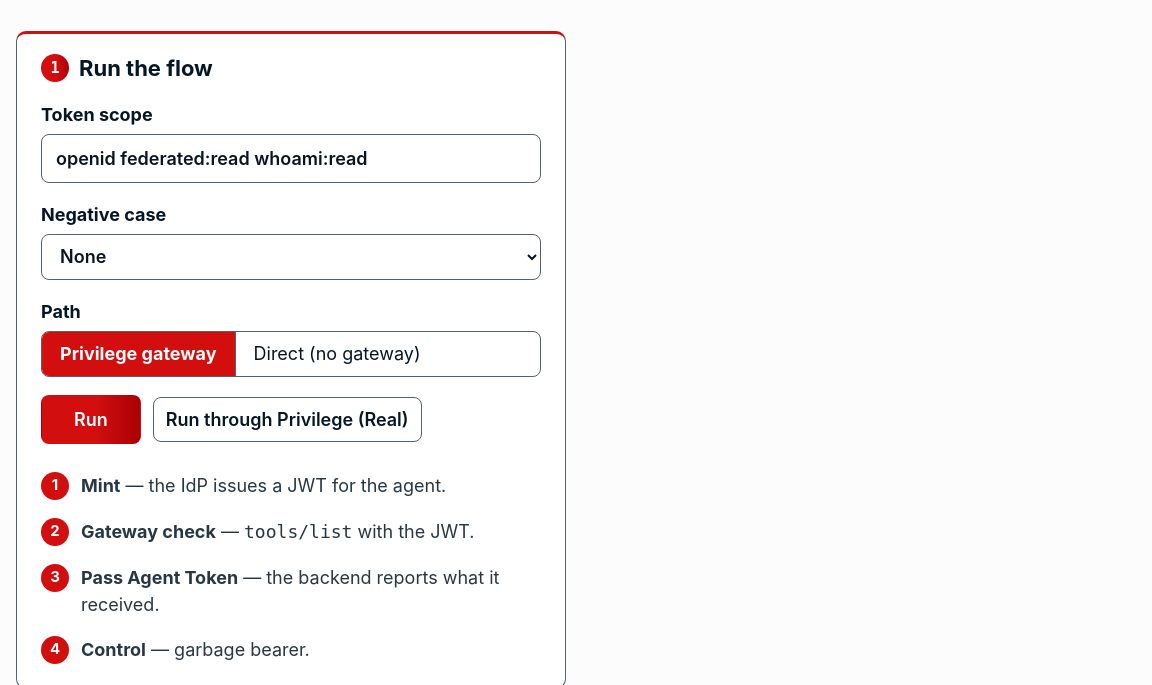
Test: Workload Identity Lab › the dual-path comparison (gateway vs direct) › flipping to Direct and running shows the direct tool list including GrantAdminTool
(page scrolled)
Click the radio button with test id "path-direct" at point(336, 354), box [234,332,438,376]
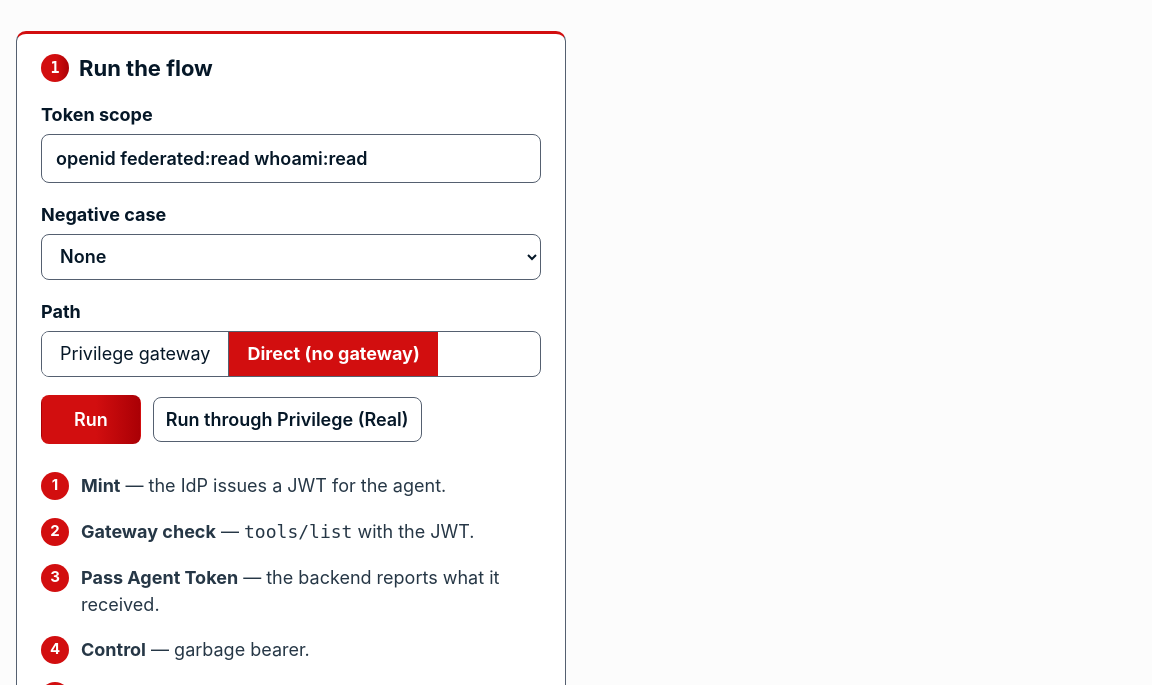
Expected: the radio button with test id "path-direct" is checked, [228,332,438,376]
Click the button with test id "run-btn" at point(91, 419), box [41,395,141,444]
(page scrolled)
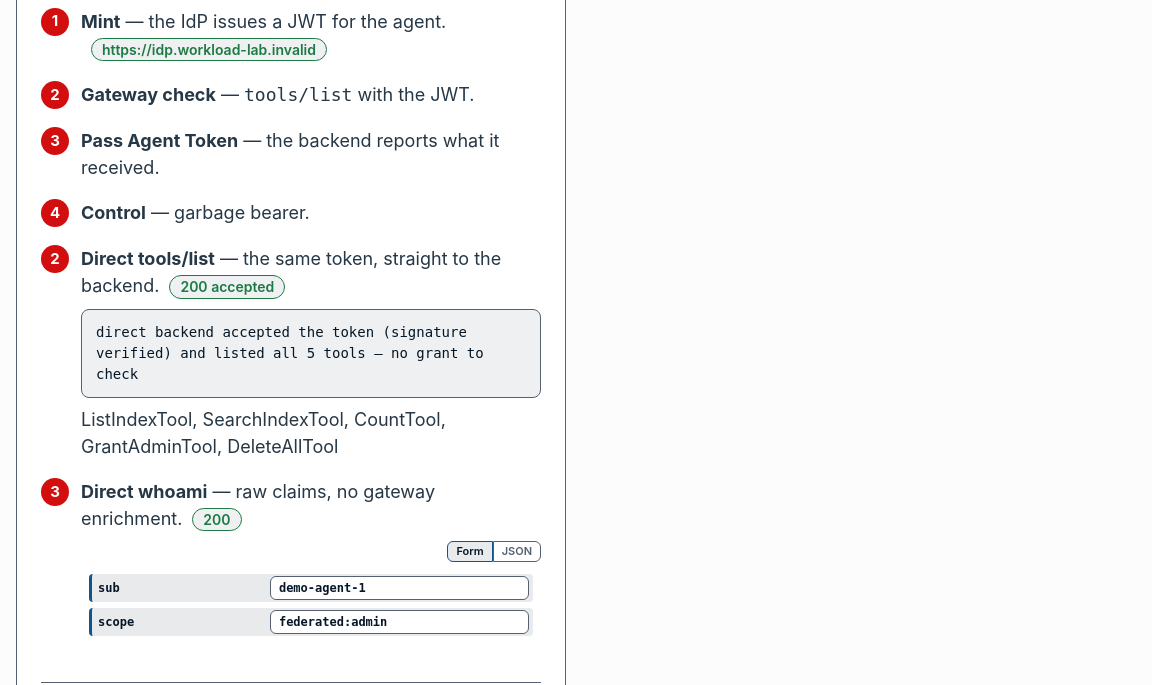
Expected: the text with test id "direct-tool-list" shows "GrantAdminTool", [81,409,446,457]
Expected: the text with test id "direct-tool-list" shows "DeleteAllTool", [81,409,446,457]
Expected: the element with test id "direct-whoami-claims" shows "demo-agent-1", [279,581,366,595]
